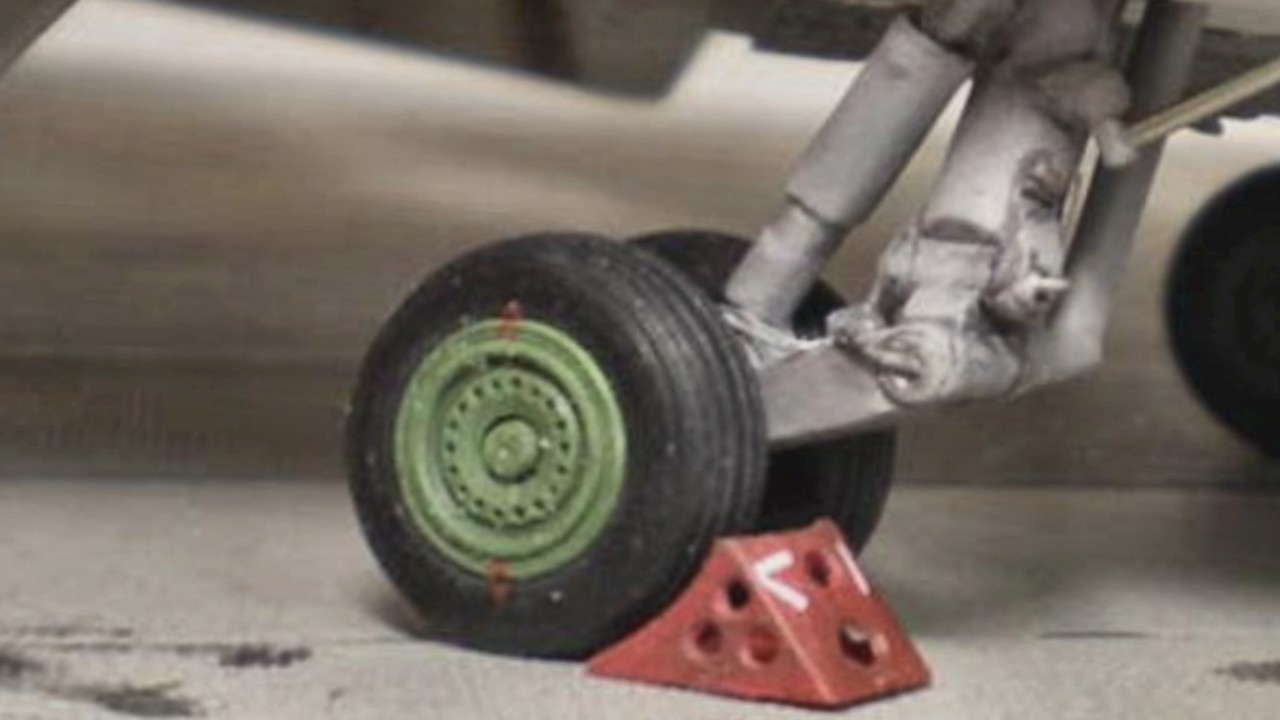chock: (577, 505, 946, 713)
wheel: (317, 221, 778, 666), (1153, 149, 1280, 476)
